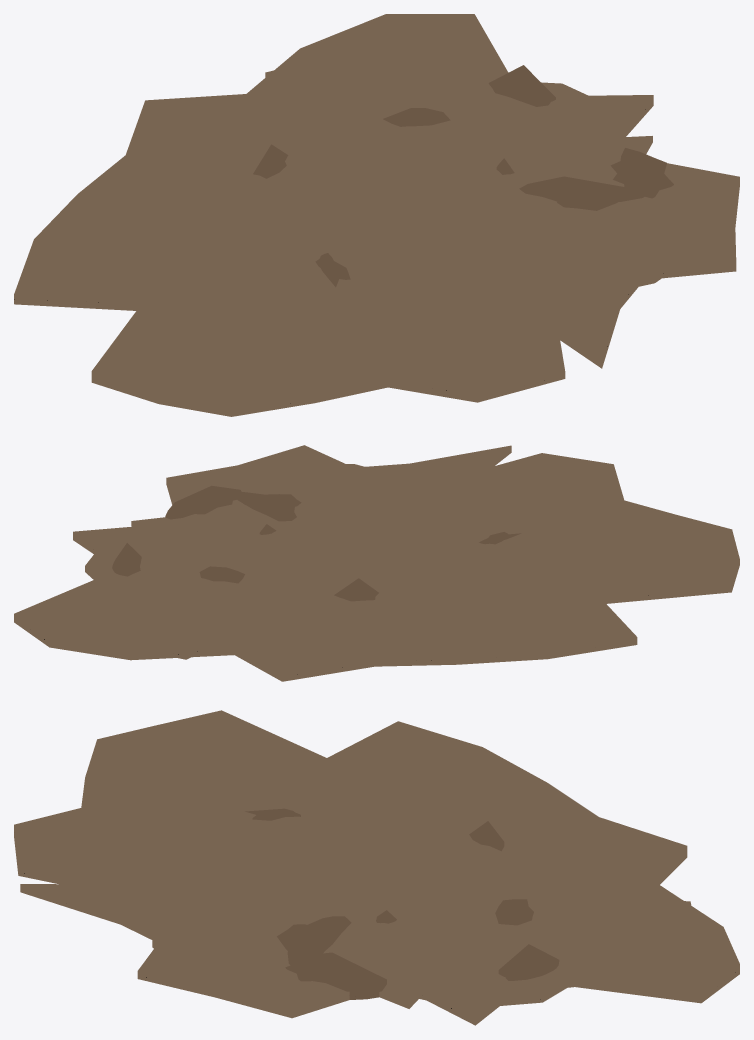
Rendered from dirt_4.glb.
The picture shows the model from 3 angles, top to bottom: view 1: azimuth 30°, elevation 25°; view 2: azimuth 150°, elevation 25°; view 3: azimuth 270°, elevation 25°; orthographic projection. The views are drawn at different scales.
Visible parts, largest first — view 1: dirt_4; view 2: dirt_4; view 3: dirt_4.
Boxes of the visible parts, box(x1,y1,x2,y2) form: dirt_4: box(14, 14, 739, 416); dirt_4: box(14, 445, 739, 681); dirt_4: box(14, 710, 739, 1025).
Size of the model in its own units: 1.04 by 0.0677 by 1.05.
